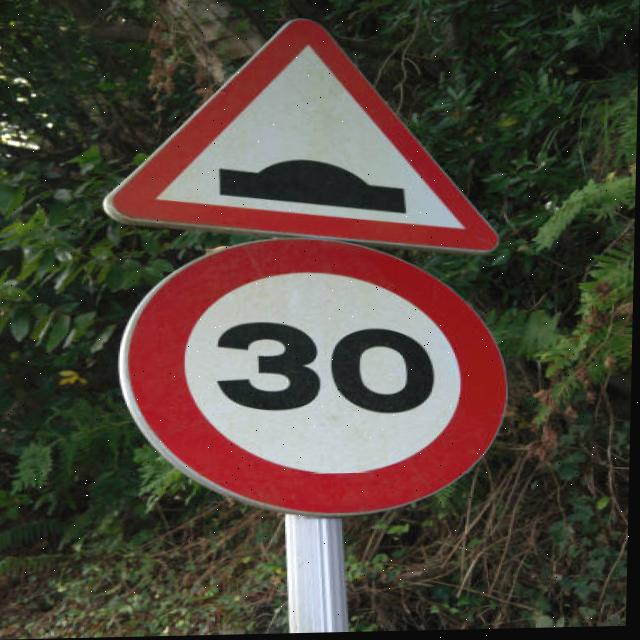Speed limit 30: (115, 235, 515, 524)
